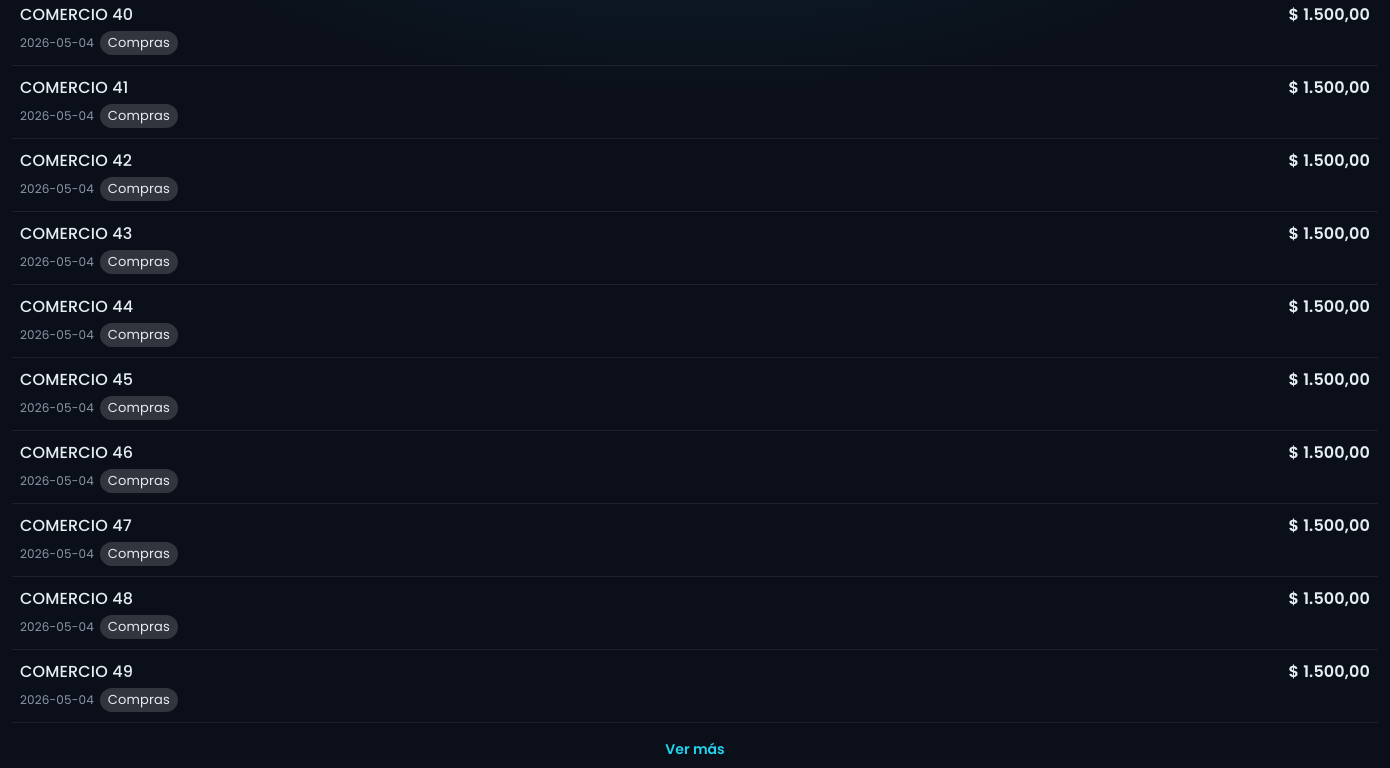
Test: TransactionsList › muestra 50 filas y «Ver más» suma de a 50
(page scrolled)
Click the button "Ver más": point(695, 749) [12,731,1378,767]
(page scrolled)
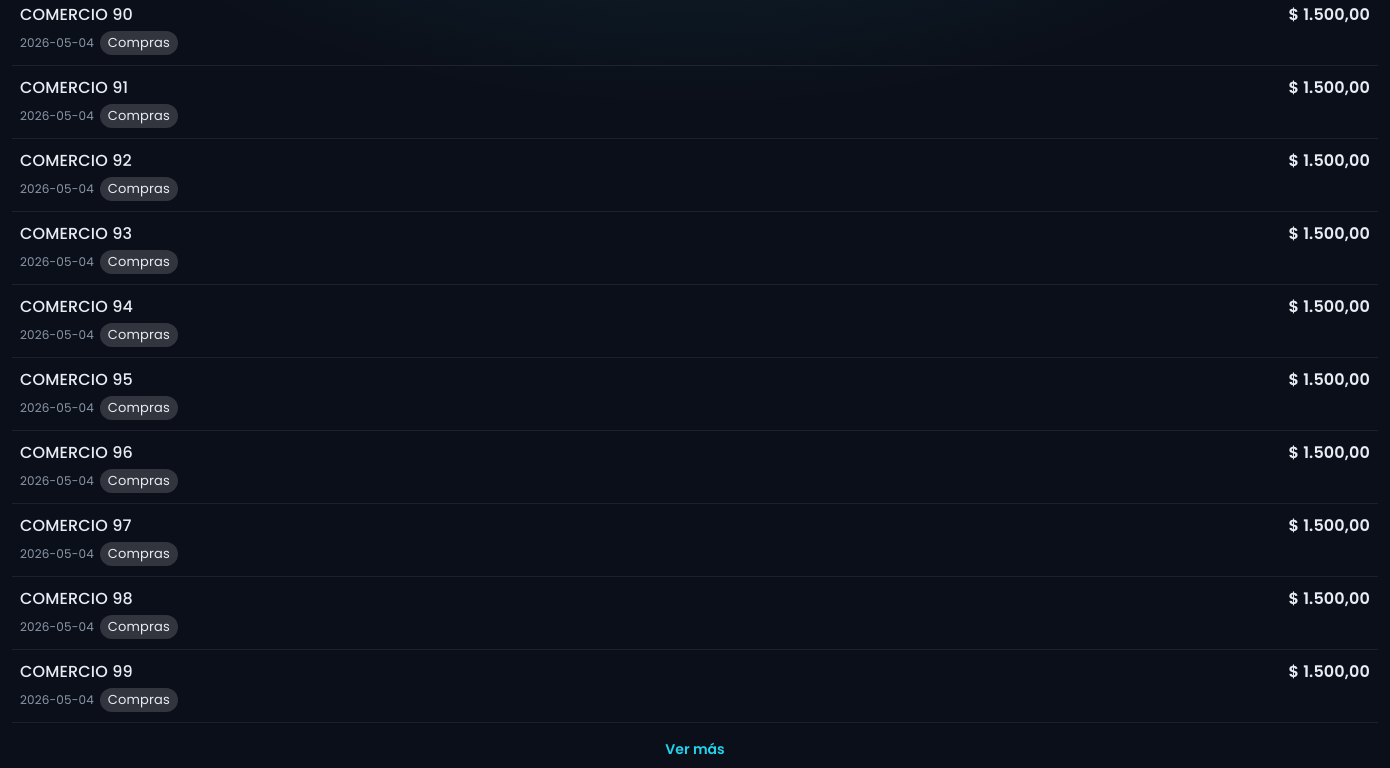
Click the button "Ver más": point(695, 749) [12,731,1378,767]
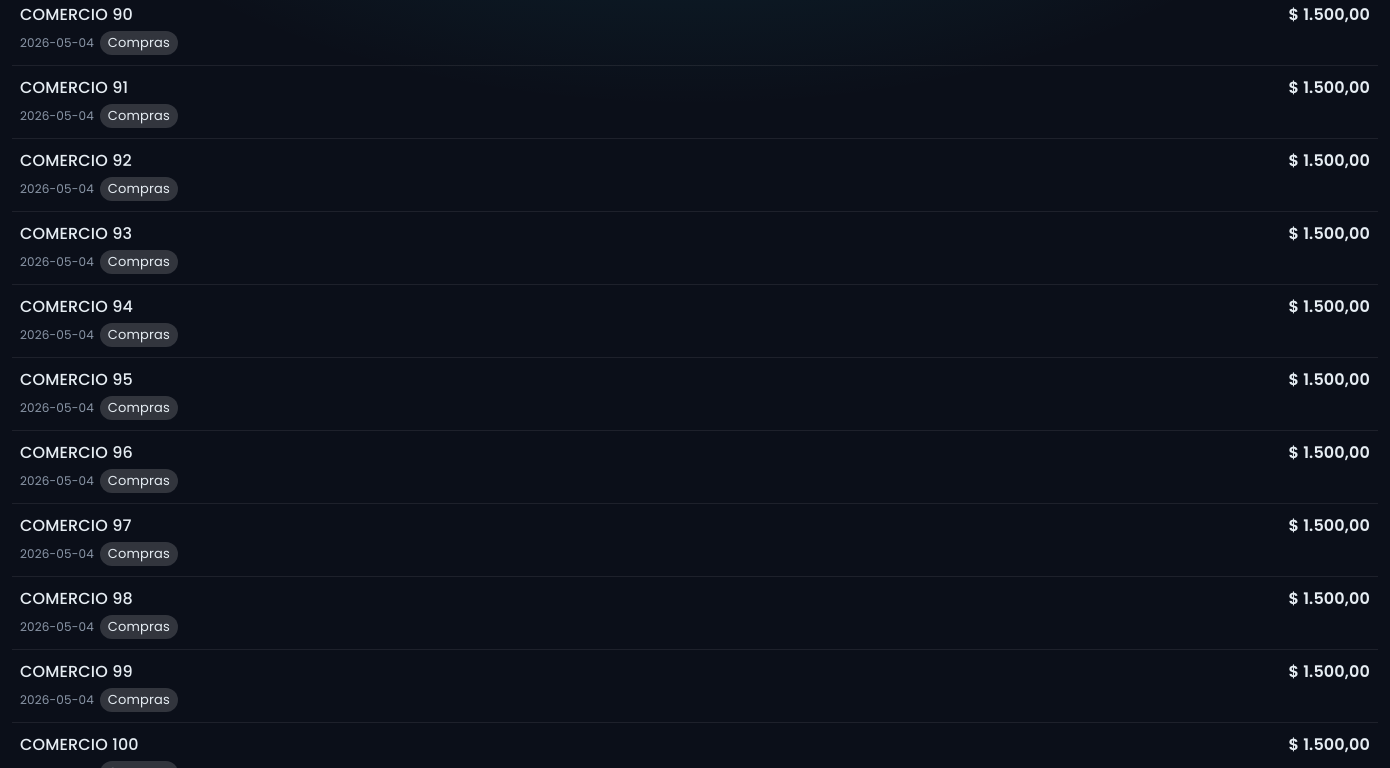
Check: the button "Ver más" is gone
